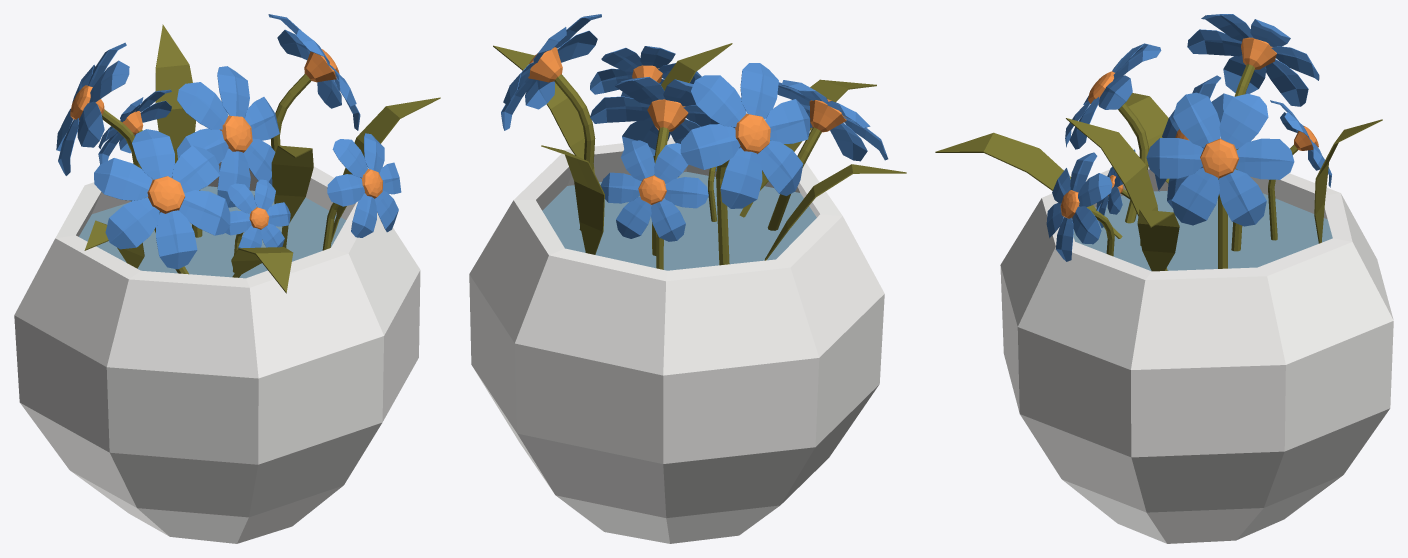
File: Vase_With_Daisies_1.fbx
3 renders of one model, left to right at view 1: azimuth 30°, elevation 25°; view 2: azimuth 150°, elevation 25°; view 3: azimuth 270°, elevation 25°, orthographic. The views are drawn at different scales.
Parts seen in each view (by area): view 1: Vase_With_Daisies_1; view 2: Vase_With_Daisies_1; view 3: Vase_With_Daisies_1.
Part boxes in pixels (box(x1,y1,x2,y2)): Vase_With_Daisies_1: box(14, 14, 440, 543); Vase_With_Daisies_1: box(469, 14, 906, 543); Vase_With_Daisies_1: box(935, 14, 1393, 543).
Size of the model in its own units: 29.79 by 31.34 by 34.16.
